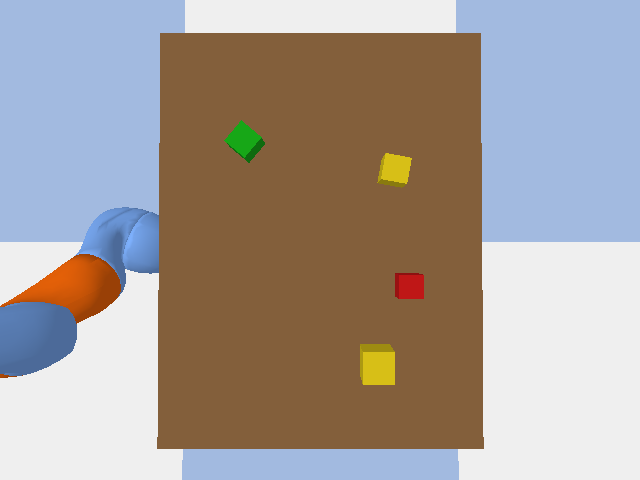green_obj: (224, 120, 264, 162)
red_obj: (395, 273, 423, 298)
yellow_obj: (360, 344, 394, 384), (377, 153, 411, 187)
